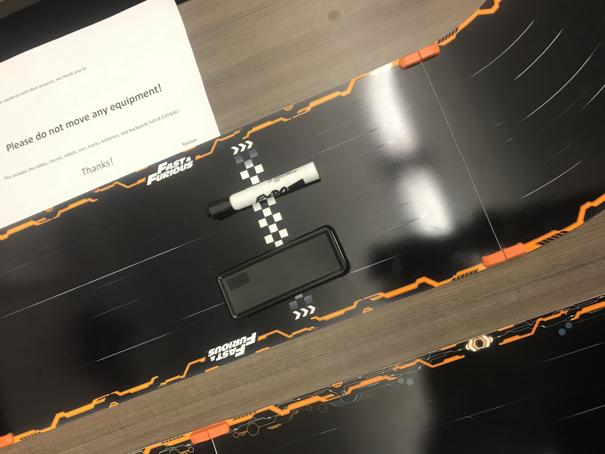Finish Line: (231, 138, 317, 320)
